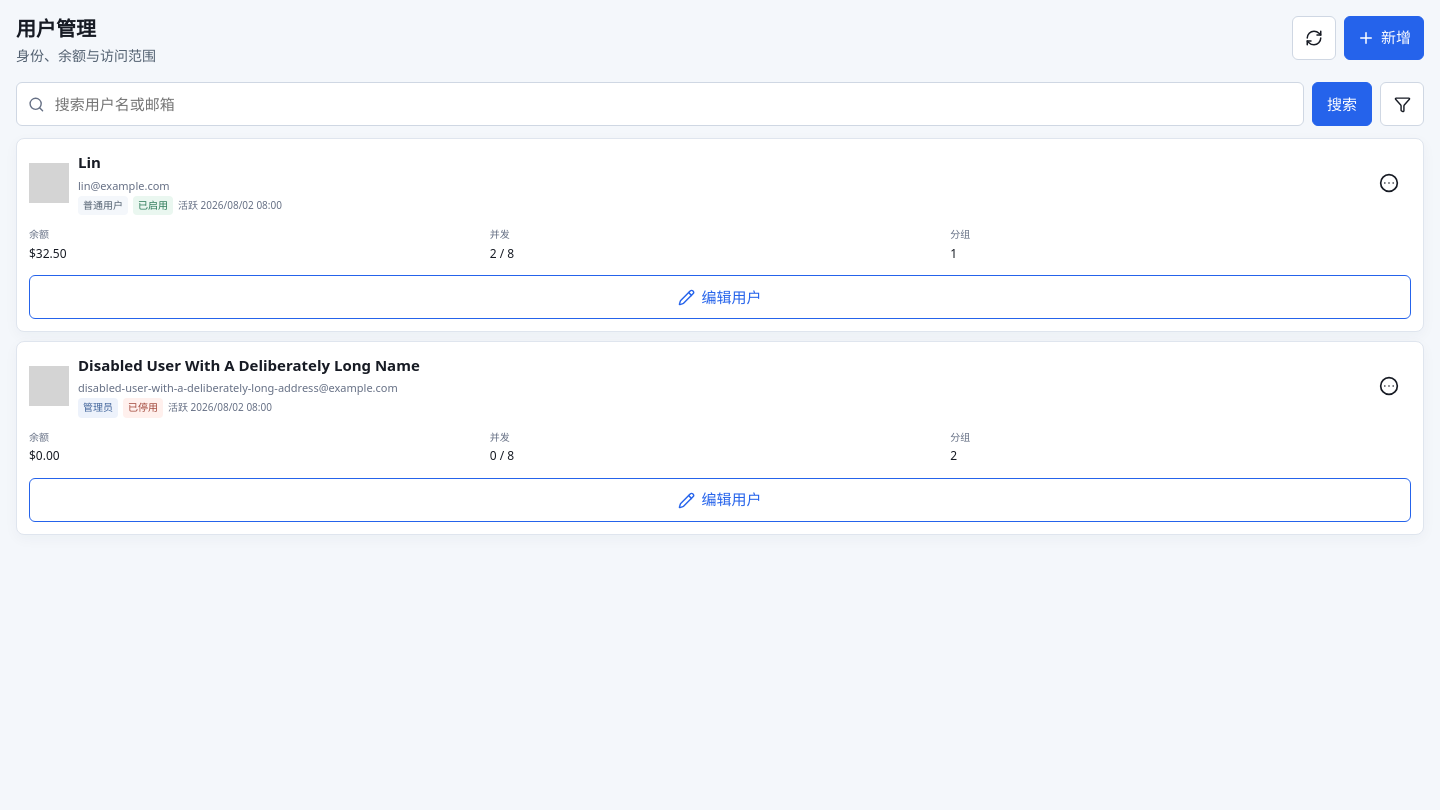
Scenario: MobileAdminUsersView › keeps the old cards on refresh rejection and redacts the backend error
Click the button with test id "refresh-users" at {"x": 1314, "y": 38}, box [1292,16,1336,60]
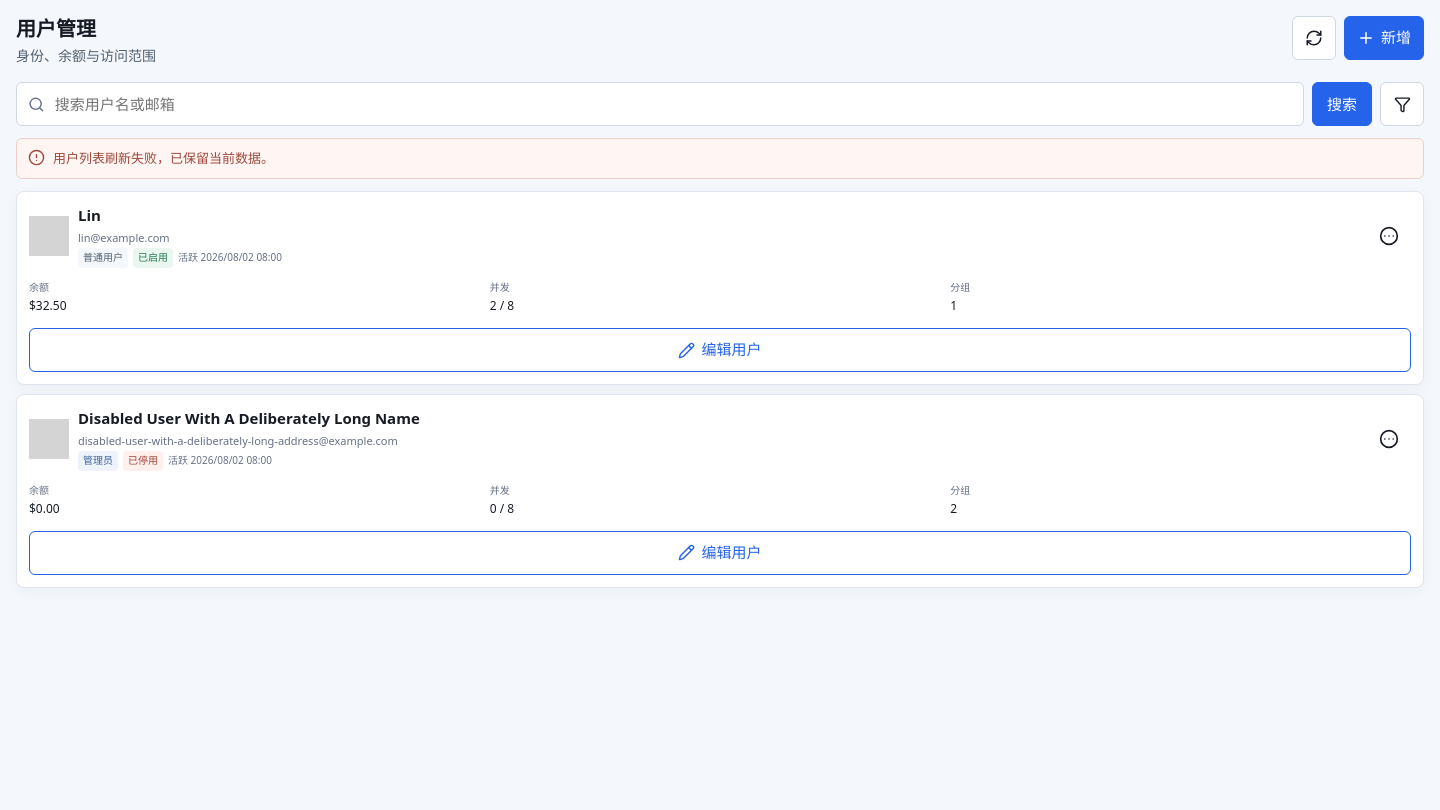
Expected: the number of elements with test id "mobile-user-card" is 2, [16,191,1424,385]; [16,394,1424,588]
Expected: the message with test id "user-action-error" shows "已保留当前数据", [53,149,274,167]
